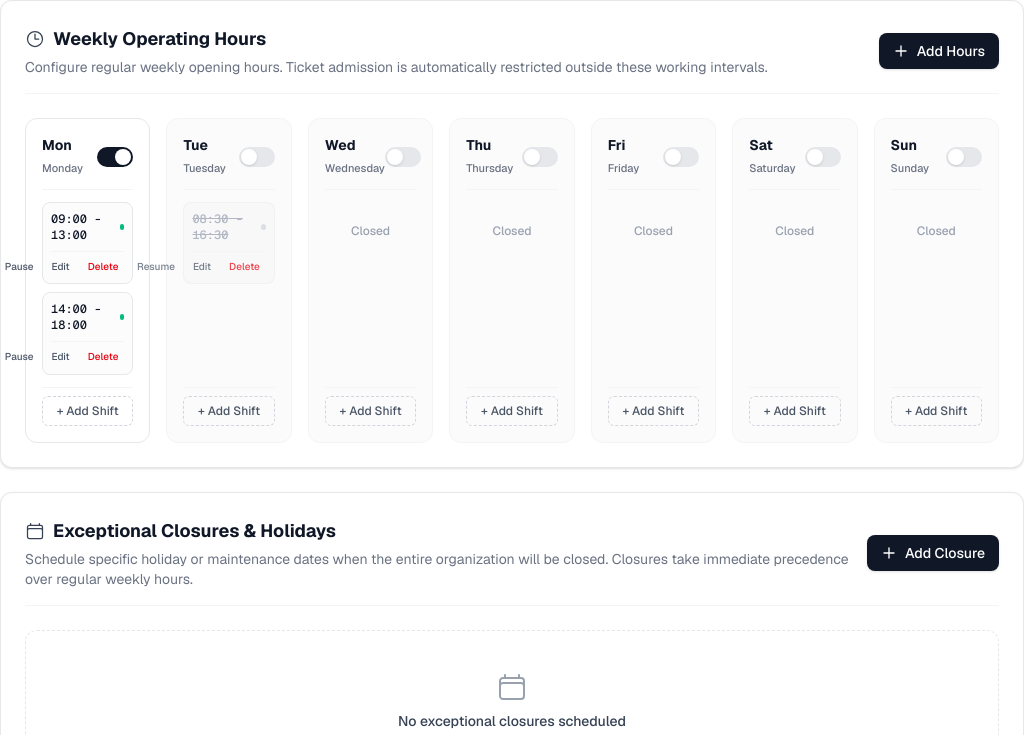
Test: OperatingHoursManagement Component › edits an existing schedule interval
Expected: the text "09:00 - 13:00" is shown, [51,211,101,243]
Click the button with aria-label "edit monday interval 09:00 to 13:00" at [61, 267], box [46,258,76,275]
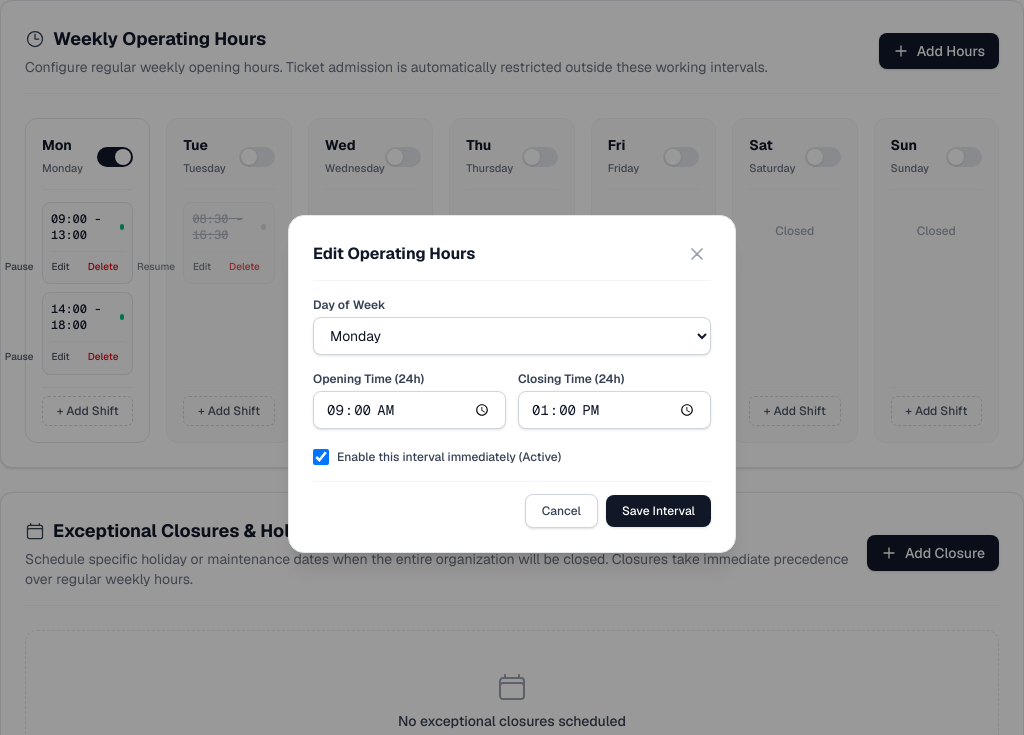
Replace the text in the time field labelled "Opening Time (24h)" with "08:00" at [410, 410], box [313,391,506,429]
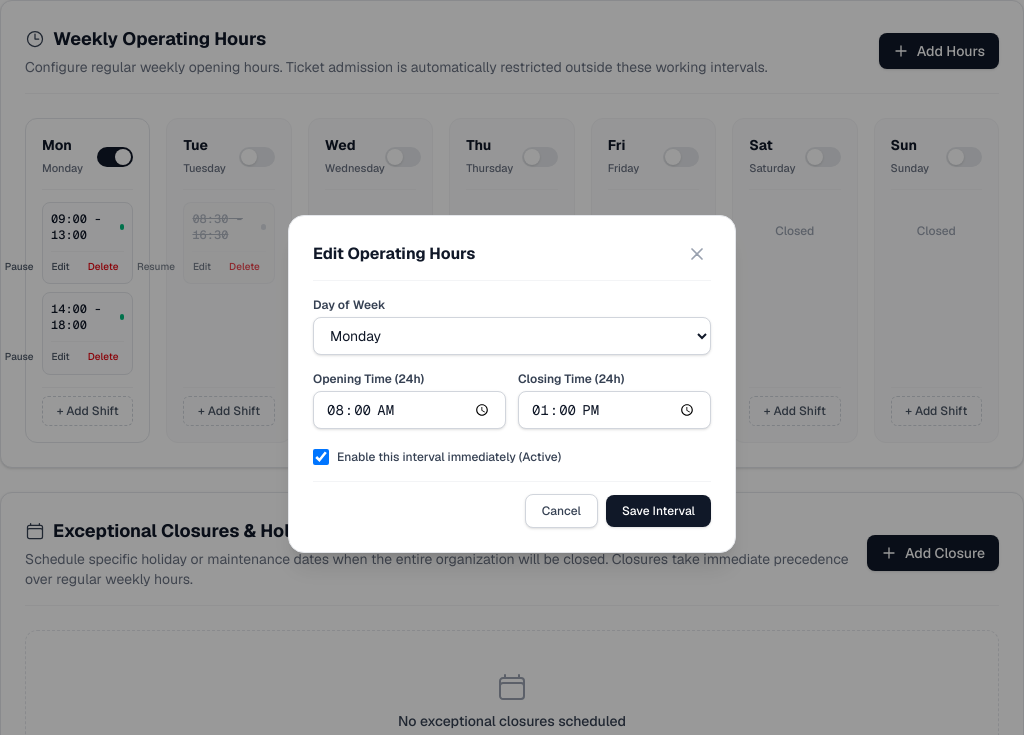
Replace the text in the time field labelled "Closing Time (24h)" with "12:00" at [614, 410], box [518,391,711,429]
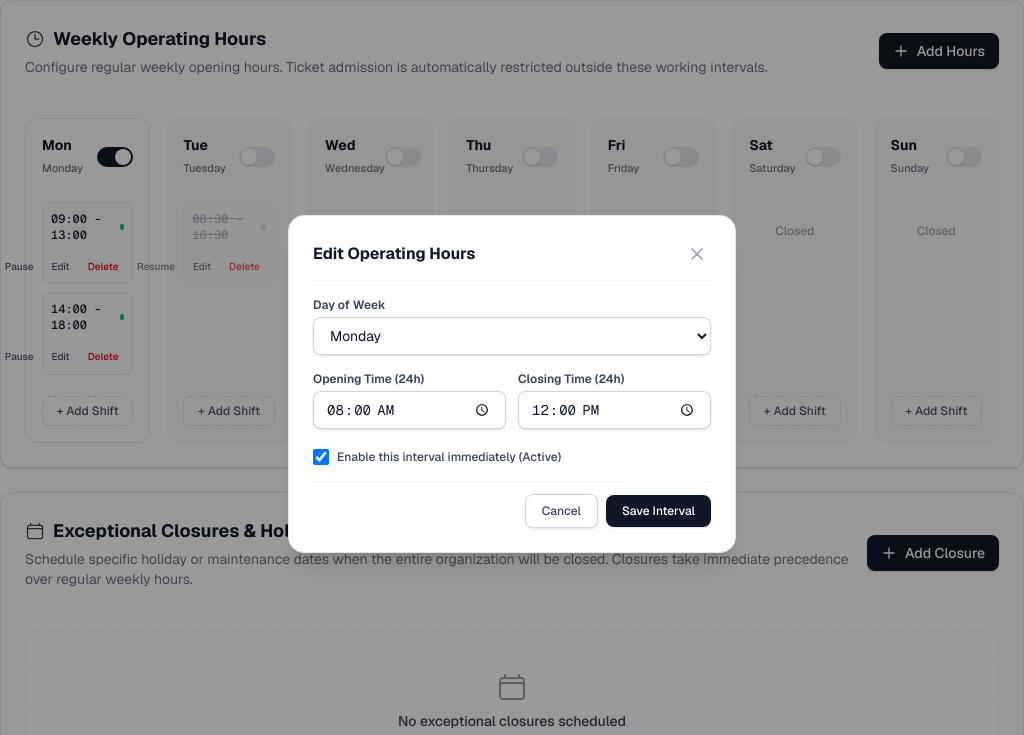
Click the button "Save Interval" at [658, 511], box [606,495,711,527]
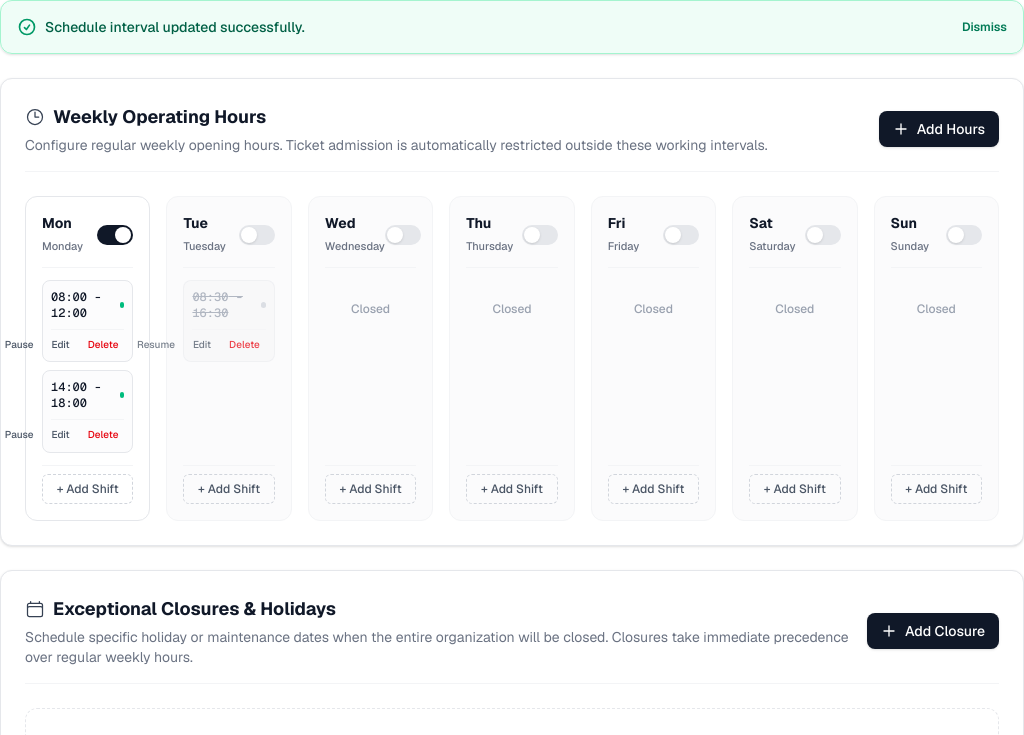
Expected: the text "Schedule interval updated successfully." is shown, [45,17,305,37]
Expected: the text "08:00 - 12:00" is shown, [51,289,101,321]
